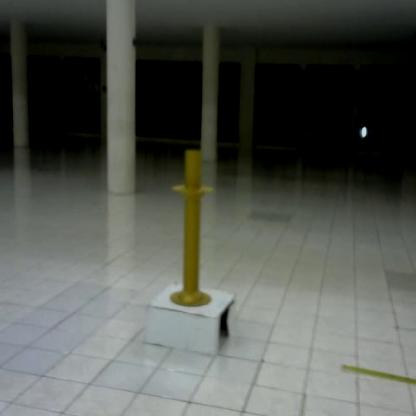pole: (166, 145, 223, 317)
